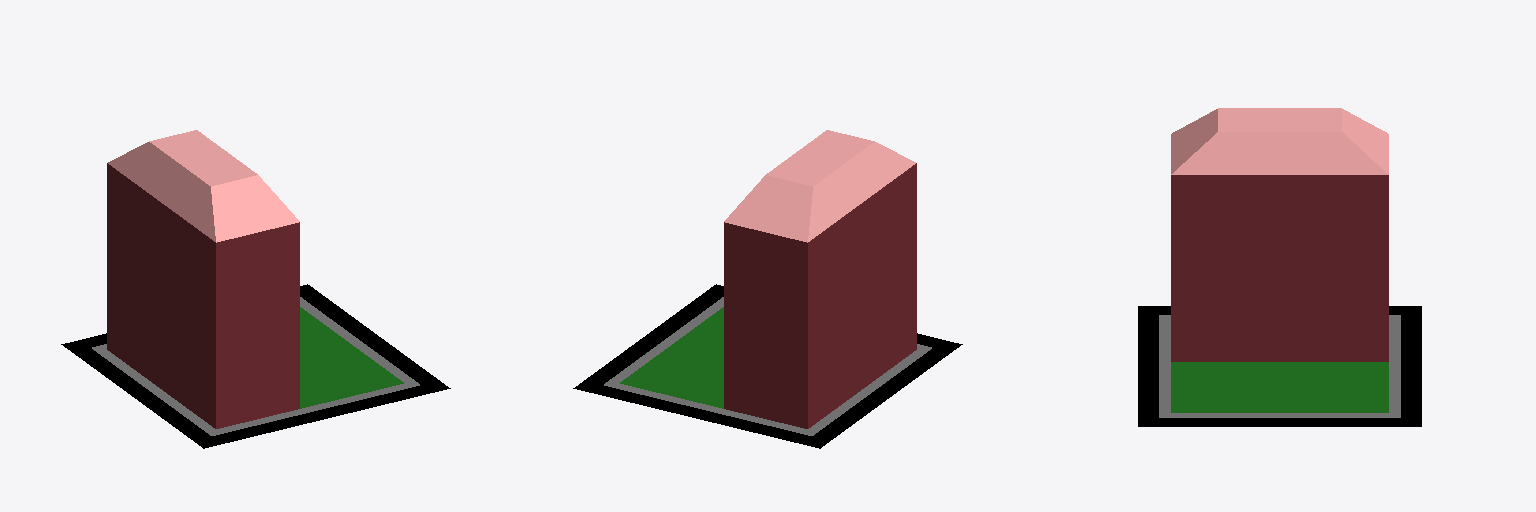
The model's file is bldg5.obj.
3 renders of one model, left to right at view 1: azimuth 30°, elevation 25°; view 2: azimuth 150°, elevation 25°; view 3: azimuth 270°, elevation 25°, orthographic.
Parts seen in each view (by area): view 1: pPlane1; view 2: pPlane1; view 3: pPlane1.
Boxes of the visible parts, <box> form: pPlane1: <box>61,130,450,448</box>; pPlane1: <box>573,130,962,448</box>; pPlane1: <box>1138,108,1421,426</box>.
Bounding box in the file's own units: 10 × 8.56 × 10.